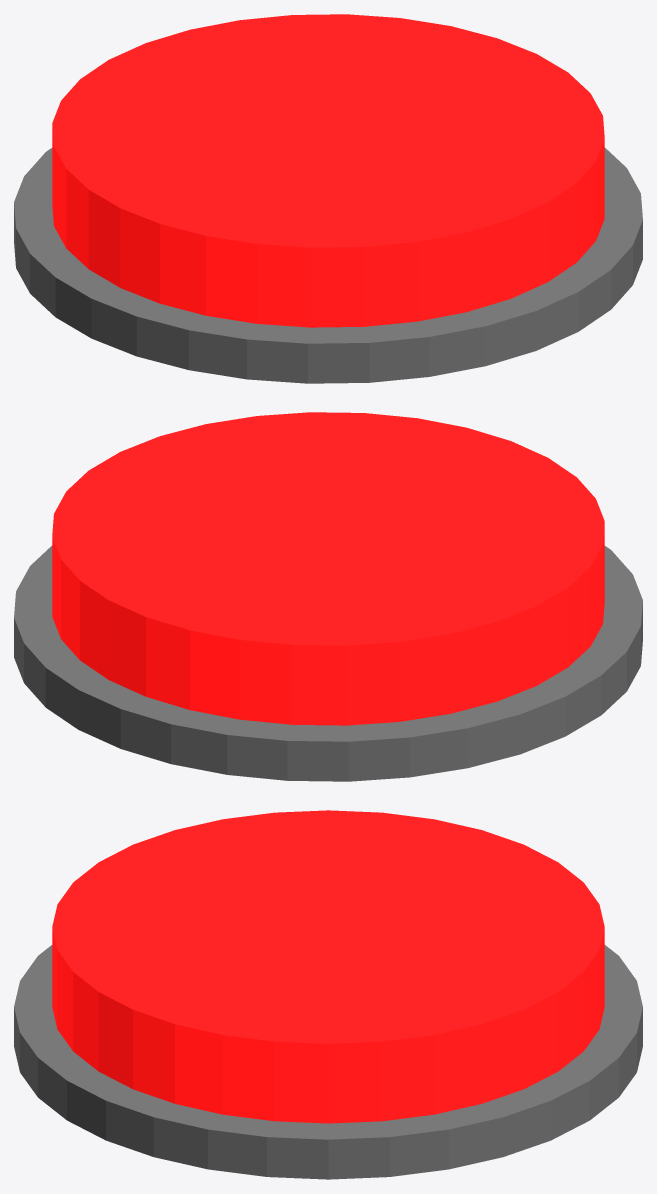
The model's file is Wall_Button.fbx.
3 renders of one model, top to bottom at view 1: azimuth 30°, elevation 25°; view 2: azimuth 150°, elevation 25°; view 3: azimuth 270°, elevation 25°, orthographic.
Visible parts, largest first — view 1: Cylinder.001, Cylinder; view 2: Cylinder.001, Cylinder; view 3: Cylinder.001, Cylinder.
Boxes of the visible parts, x1,y1,x2,y2 form: Cylinder.001: [52, 14, 604, 327]; Cylinder: [14, 147, 642, 383]; Cylinder.001: [52, 412, 604, 725]; Cylinder: [14, 545, 642, 781]; Cylinder.001: [52, 810, 604, 1123]; Cylinder: [14, 945, 642, 1179].
Bounding box in the file's own units: 200 × 41.93 × 200.
